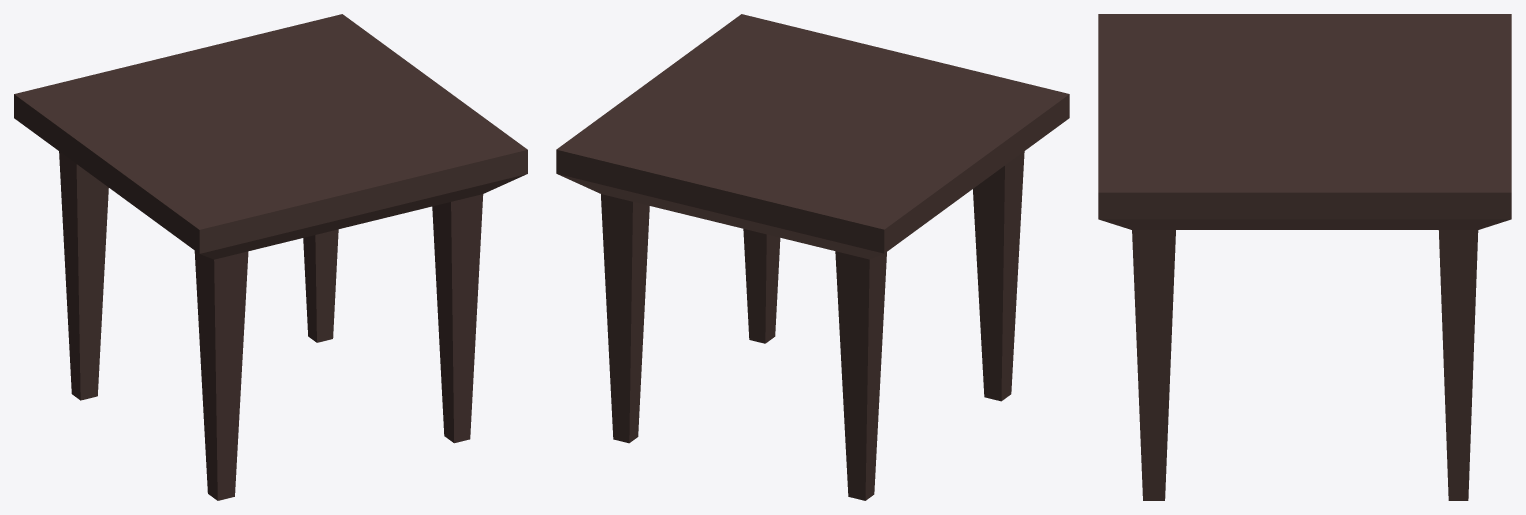
The model's file is SM_SmallTable.fbx.
The picture shows the model from 3 angles, left to right: view 1: azimuth 30°, elevation 25°; view 2: azimuth 150°, elevation 25°; view 3: azimuth 270°, elevation 25°; orthographic projection. The views are drawn at different scales.
Visible parts, largest first — view 1: SM_SmallTable; view 2: SM_SmallTable; view 3: SM_SmallTable.
Boxes of the visible parts, <box> form: SM_SmallTable: <box>14,14,527,500</box>; SM_SmallTable: <box>556,14,1069,500</box>; SM_SmallTable: <box>1098,14,1511,500</box>.
Size of the model in its own units: 82.79 by 71.08 by 80.98.
